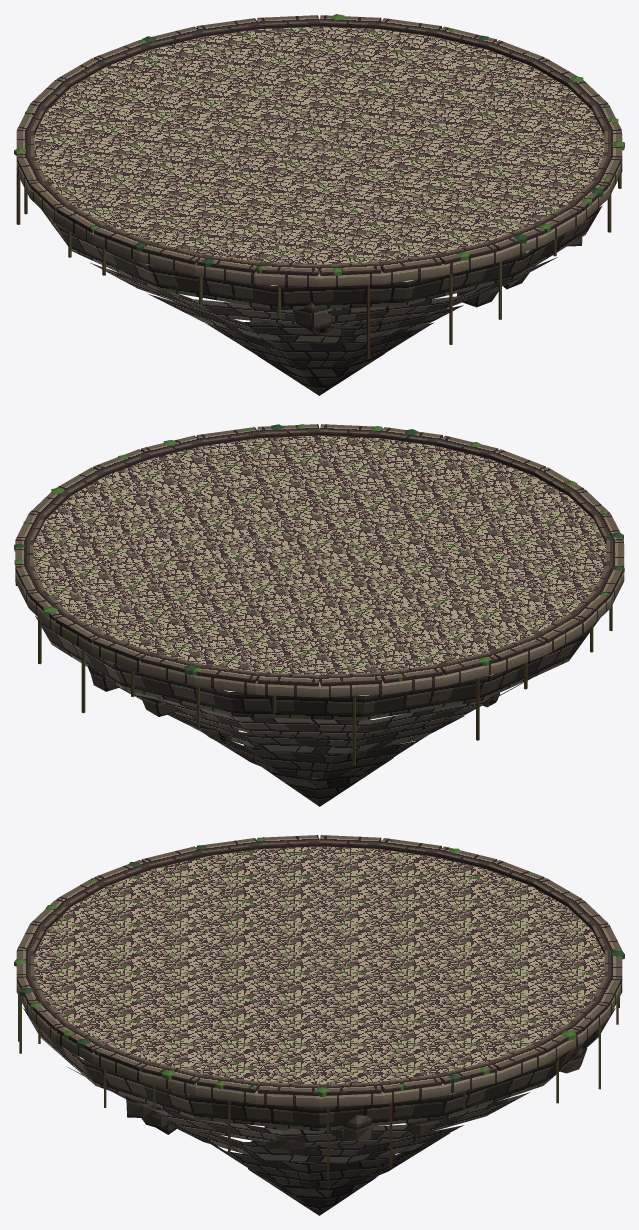
Rendered from rift_isle.glb.
3 renders of one model, top to bottom at view 1: azimuth 30°, elevation 25°; view 2: azimuth 150°, elevation 25°; view 3: azimuth 270°, elevation 25°, orthographic.
Parts seen in each view (by area): view 1: rift_isle; view 2: rift_isle; view 3: rift_isle.
Boxes of the visible parts, x1,y1,x2,y2 form: rift_isle: (14, 14, 624, 395); rift_isle: (14, 424, 624, 806); rift_isle: (14, 835, 624, 1215).
Size of the model in its own units: 17.26 by 7.94 by 17.25.
3 materials, 2 textured.
